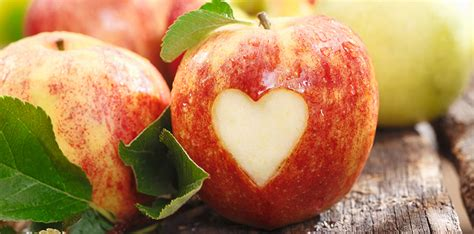apple: (164, 13, 377, 230)
